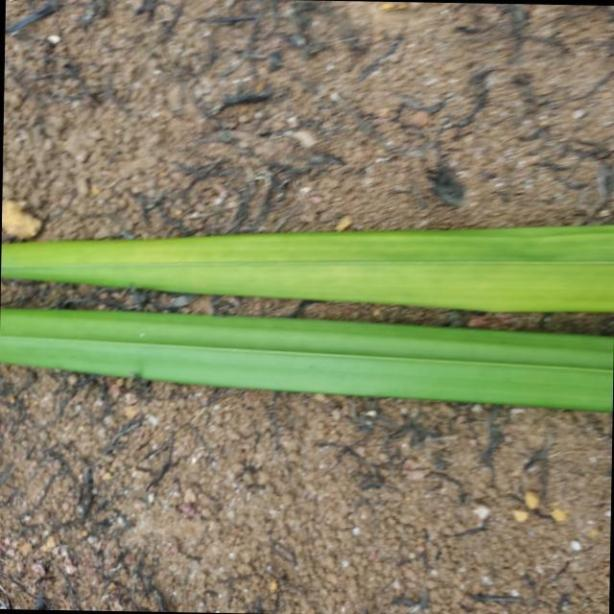nitrogen: (0, 307, 614, 409), (5, 216, 614, 316)
